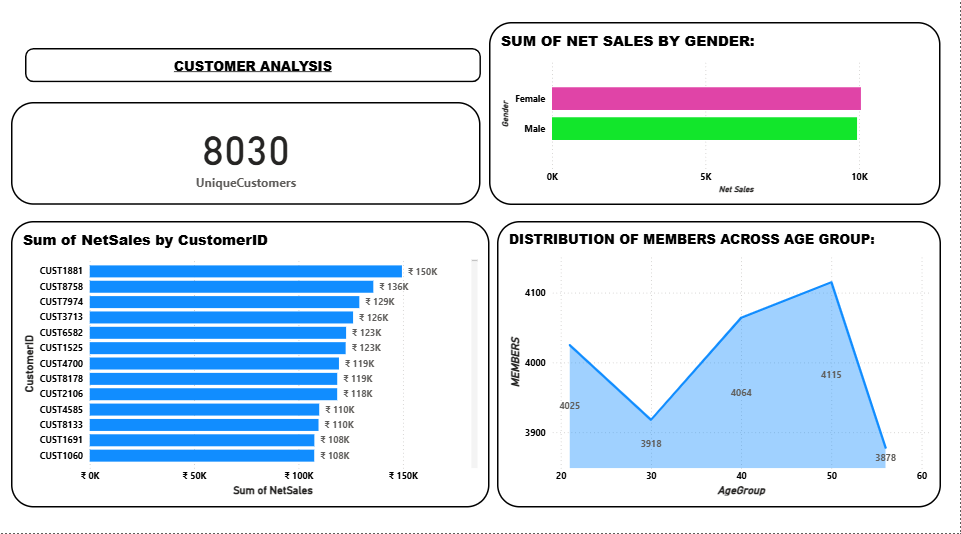

The page's visual inventory and layout, read from the dashboard file:
{"tool":"powerbi","page":{"name":"customer analysis","canvas":[1280,720],"ordinal":1},"visuals":[{"type":"card","fields":{"Values":["clearnowsales.UniqueCustomers"]},"box":[14.3,145.6,626.4,137],"z":0},{"type":"clusteredBarChart","title":"SUM OF NET SALES BY GENDER:","fields":{"Category":["clearnowsales.Gender"],"Y":["clearnowsales.CountGender"]},"box":[652.1,38.5,602.2,244],"z":1000},{"type":"stackedAreaChart","title":"DISTRIBUTION OF MEMBERS ACROSS AGE GROUP:","fields":{"Category":["clearnowsales.AgeGroup"],"Y":["clearnowsales.AgeGroupCount"]},"box":[662.1,303.9,592.2,382.4],"z":2000},{"type":"clusteredBarChart","fields":{"Category":["clearnowsales.CustomerID"],"Y":["Sum(clearnowsales.NetSales)"]},"box":[14.3,303.9,637.9,382.4],"z":3000},{"type":"shape","box":[32.8,72.8,607.9,45.7],"z":4000}]}

Visuals, with their boxes in screenshot pixels (x1, y1, x2, y2), scaled from the page's 1280x720 canvas onto the 961x534 screenshot:
card - clearnowsales.UniqueCustomers: (11,108,481,210)
"SUM OF NET SALES BY GENDER:" clusteredBarChart: (490,29,942,210)
"DISTRIBUTION OF MEMBERS ACROSS AGE GROUP:" stackedAreaChart: (497,225,942,509)
clusteredBarChart - clearnowsales.CustomerID x Sum(clearnowsales.NetSales): (11,225,490,509)
shape: (25,54,481,88)
